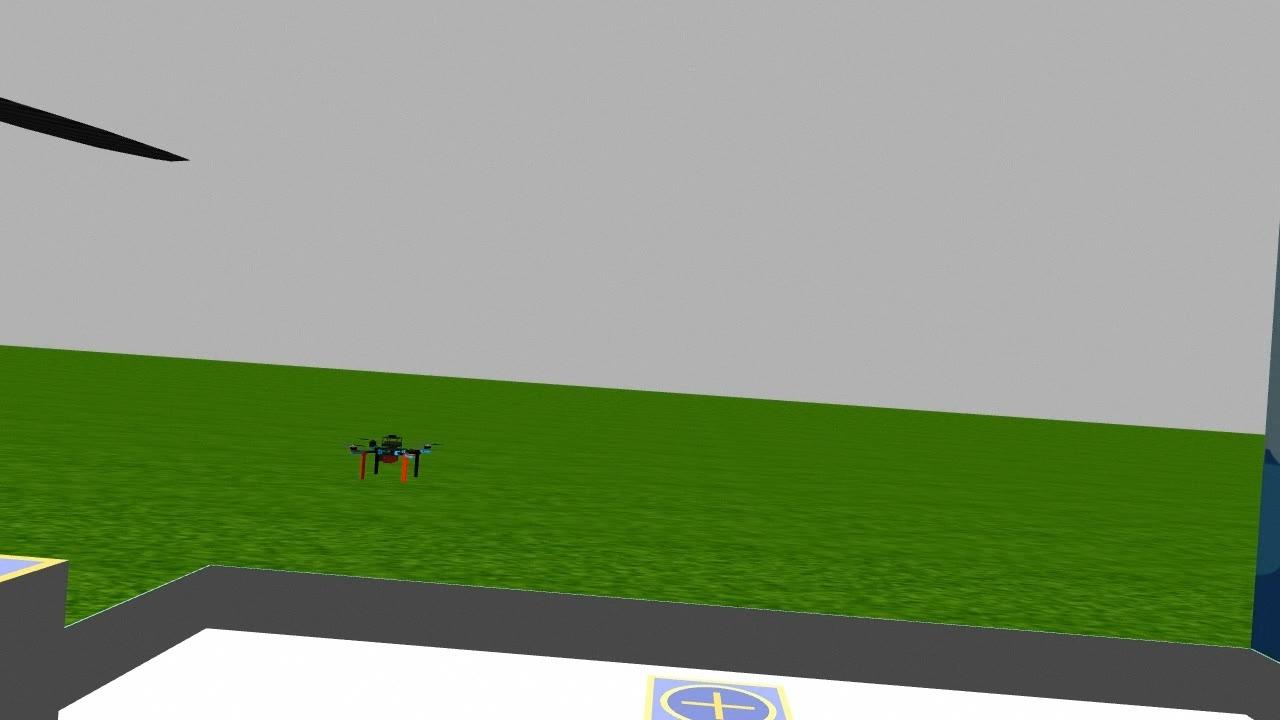UAV: (344, 415, 440, 496)
